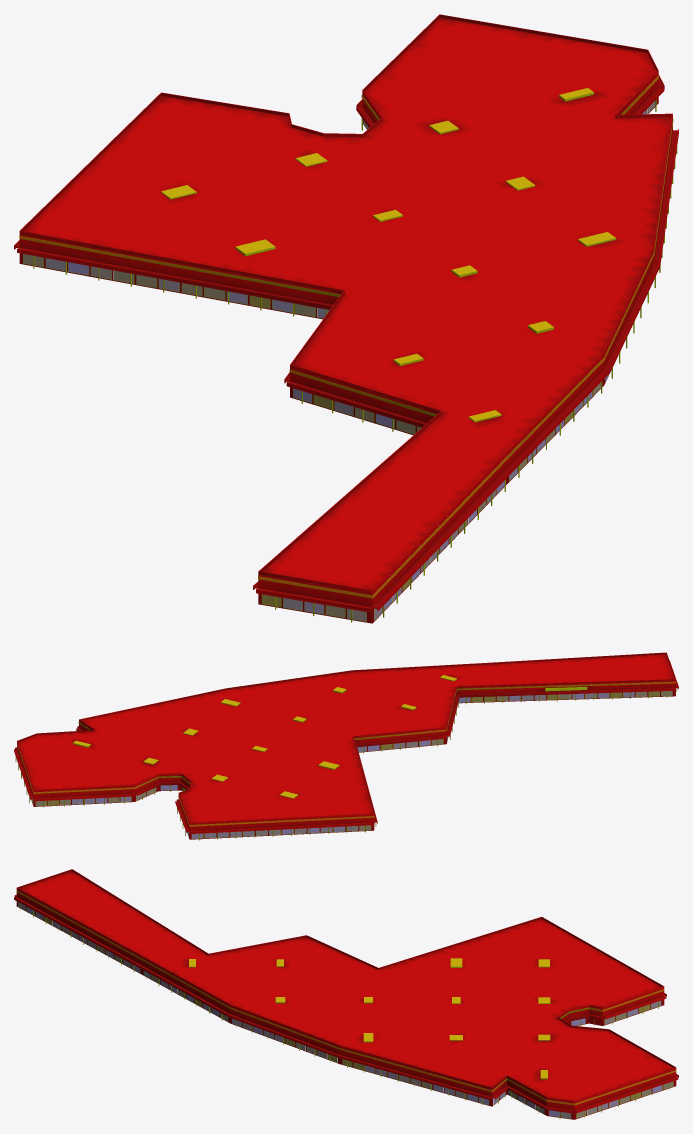
File: lakeside_mall.glb
3 views of the same model, one above another, from view 1: azimuth 30°, elevation 25°; view 2: azimuth 150°, elevation 25°; view 3: azimuth 270°, elevation 25° (orthographic). The views are drawn at different scales.
Parts seen in each view (by area): view 1: lakeside_mall__osm__LOD0; view 2: lakeside_mall__osm__LOD0; view 3: lakeside_mall__osm__LOD0.
Boxes of the visible parts, x1,y1,x2,y2 form: lakeside_mall__osm__LOD0: [14, 14, 678, 623]; lakeside_mall__osm__LOD0: [14, 652, 678, 840]; lakeside_mall__osm__LOD0: [14, 869, 678, 1119].
Size of what is drawn, in the model's own units: 240 by 9.01 by 287.
